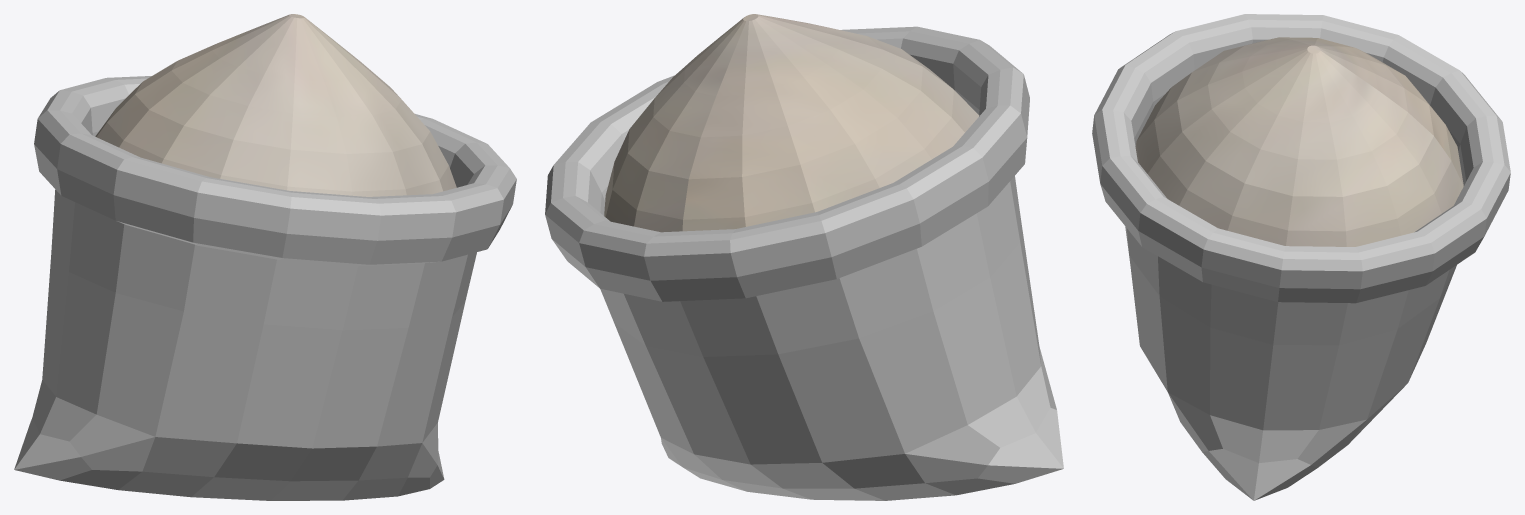
Rendered from flour1.fbx.
3 renders of one model, left to right at view 1: azimuth 30°, elevation 25°; view 2: azimuth 150°, elevation 25°; view 3: azimuth 270°, elevation 25°, orthographic. The views are drawn at different scales.
Parts seen in each view (by area): view 1: Flour1; view 2: Flour1; view 3: Flour1.
Boxes of the visible parts, x1,y1,x2,y2 form: Flour1: (14,14,516,500); Flour1: (545,14,1063,500); Flour1: (1092,14,1510,500).
Size of the model in its own units: 12.02 by 11.38 by 10.66.
